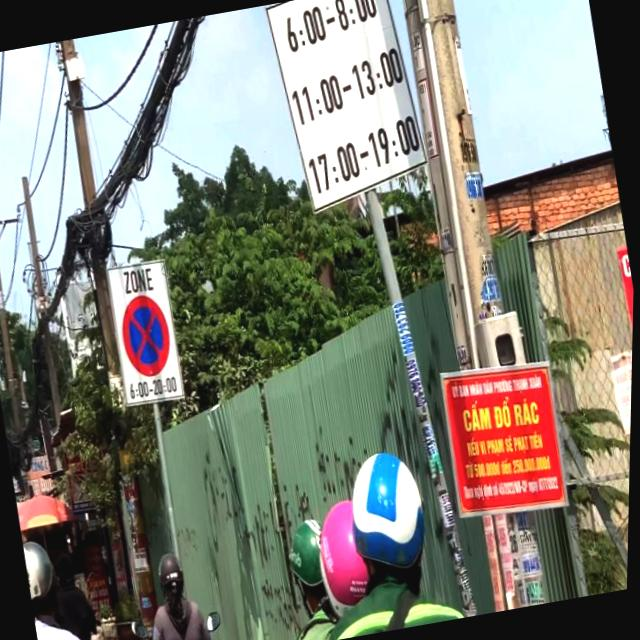Cam dung xe va do xe: (116, 290, 178, 380)
